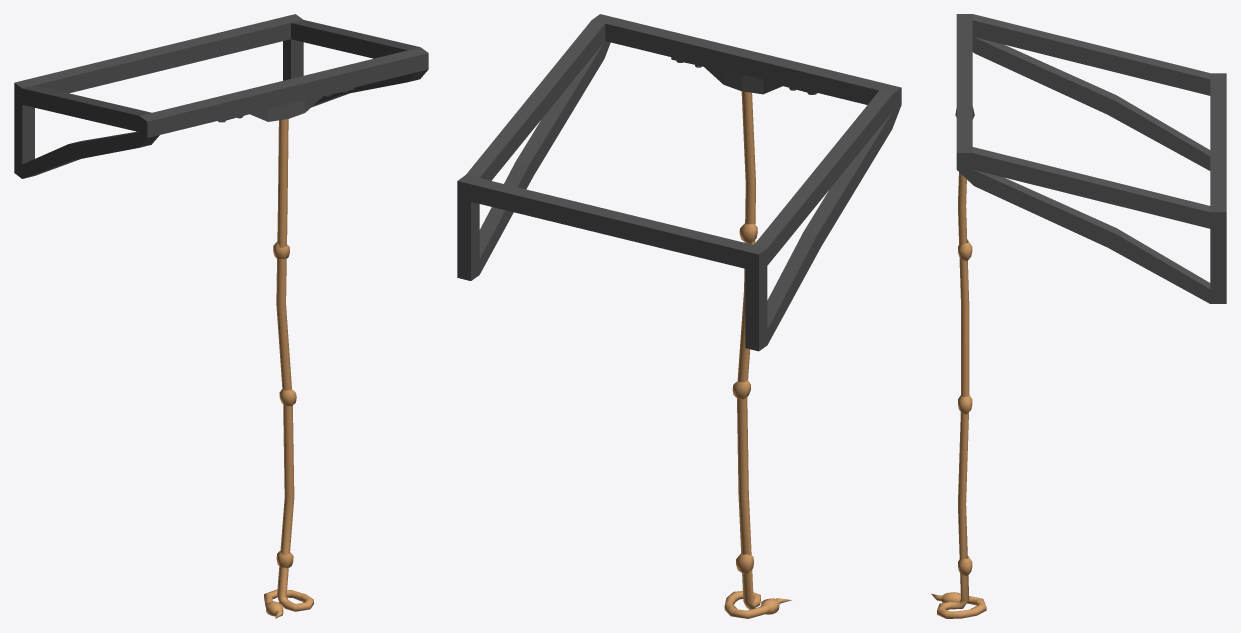
The model's file is rope.fbx.
3 views of the same model, side by side, from view 1: azimuth 30°, elevation 25°; view 2: azimuth 150°, elevation 25°; view 3: azimuth 270°, elevation 25° (orthographic). The views are drawn at different scales.
Parts seen in each view (by area): view 1: Cube.032; view 2: Cube.032; view 3: Cube.032.
Part boxes in pixels (x1=…): Cube.032: x1=14, y1=14, x2=428, y2=618; Cube.032: x1=457, y1=14, x2=901, y2=618; Cube.032: x1=931, y1=14, x2=1226, y2=618.
Size of the model in its own units: 78.26 by 139 by 70.39.
